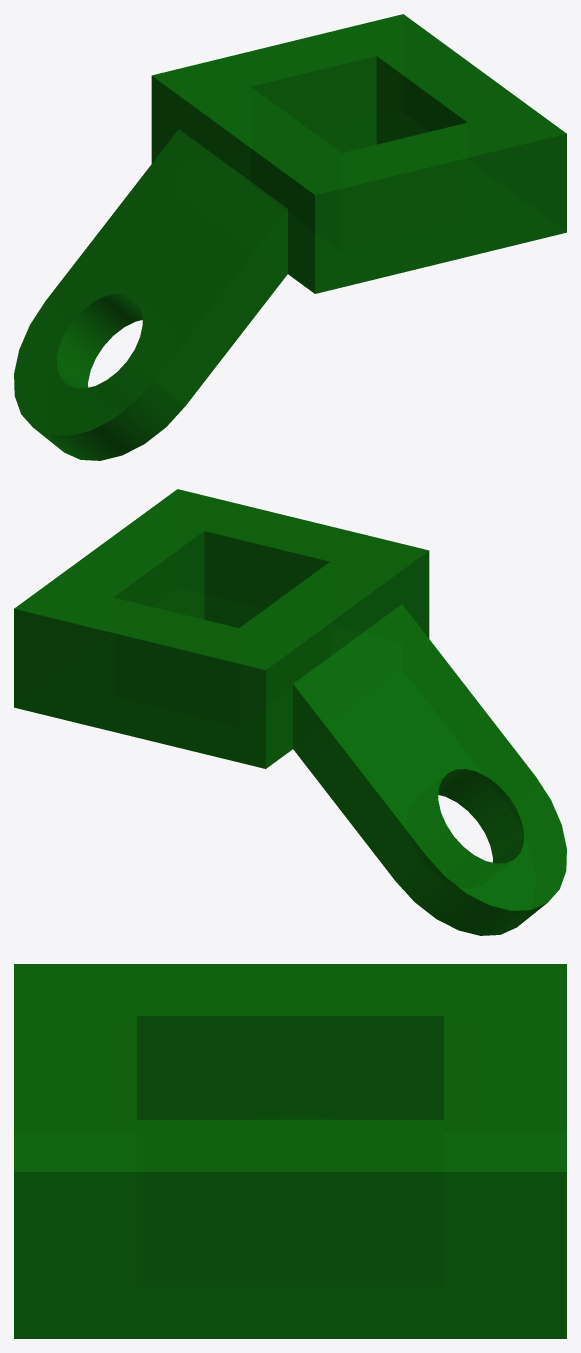
3 views of the same model, one above another, from view 1: azimuth 30°, elevation 25°; view 2: azimuth 150°, elevation 25°; view 3: azimuth 270°, elevation 25° (orthographic). The views are drawn at different scales.
Visible parts, largest first — view 1: SketchUp (×2); view 2: SketchUp (×2); view 3: SketchUp (×2).
Part boxes in pixels (x1=…): SketchUp (×2): x1=14, y1=14, x2=566, y2=460; SketchUp (×2): x1=14, y1=489, x2=566, y2=935; SketchUp (×2): x1=14, y1=964, x2=566, y2=1338.
Size of the model in its own units: 2828 by 1772 by 1648.
